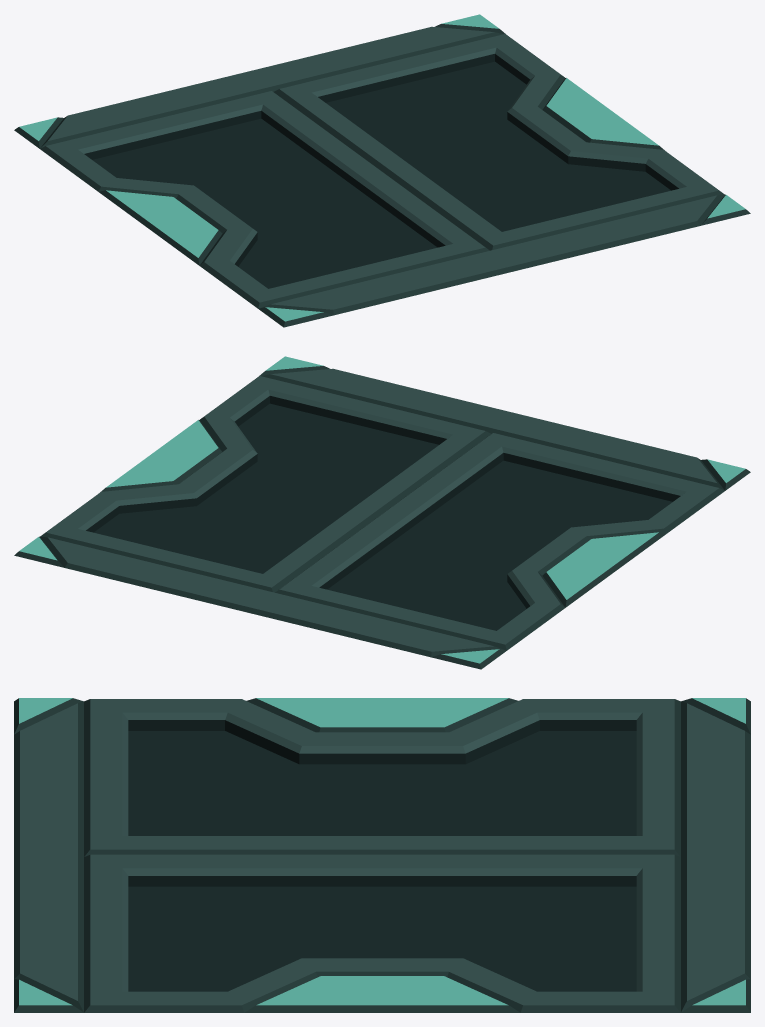
File: Ground_Var02.fbx
3 views of the same model, one above another, from view 1: azimuth 30°, elevation 25°; view 2: azimuth 150°, elevation 25°; view 3: azimuth 270°, elevation 25° (orthographic). The views are drawn at different scales.
Visible parts, largest first — view 1: Ground_Var02; view 2: Ground_Var02; view 3: Ground_Var02.
Boxes of the visible parts, left/top/right/bottom form: Ground_Var02: left=14, top=14, right=750, bottom=327; Ground_Var02: left=14, top=356, right=750, bottom=669; Ground_Var02: left=14, top=698, right=750, bottom=1012.
Bounding box in the file's own units: 600 × 14.47 × 600.
